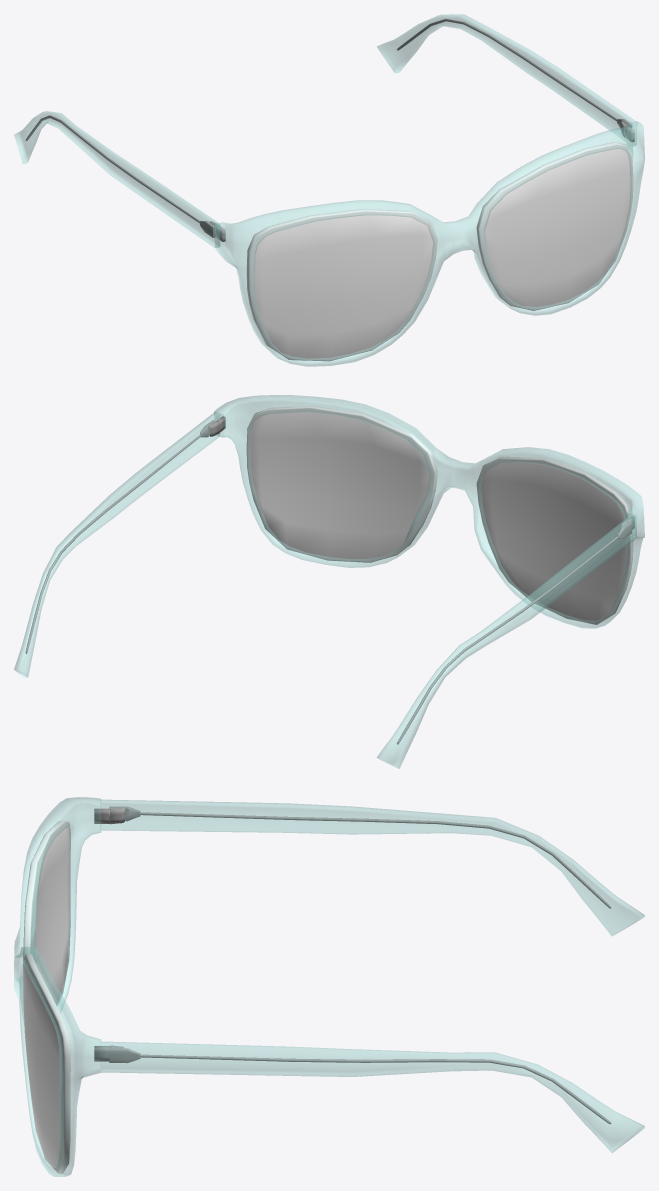
Rendered from yesil-gozluk.glb.
The picture shows the model from 3 angles, top to bottom: view 1: azimuth 30°, elevation 25°; view 2: azimuth 150°, elevation 25°; view 3: azimuth 270°, elevation 25°; orthographic projection. The views are drawn at different scales.
Parts seen in each view (by area): view 1: Lens.002, Frame.002, Vert.002, Vert.003, Cube.020, Cube.017; view 2: Lens.002, Frame.002, Vert.003, Vert.002, Cube.017, Cube.020; view 3: Vert.002, Vert.003, Lens.002, Frame.002, Cube.020, Cube.017.
Boxes of the visible parts, x1,y1,x2,y2 form: Lens.002: [246, 142, 633, 361]; Frame.002: [214, 121, 644, 366]; Vert.002: [377, 14, 636, 146]; Vert.003: [14, 111, 219, 247]; Cube.020: [397, 18, 631, 129]; Cube.017: [25, 115, 215, 237]; Lens.002: [246, 405, 633, 624]; Frame.002: [214, 395, 644, 628]; Vert.003: [377, 513, 636, 768]; Vert.002: [14, 412, 219, 677]; Cube.017: [397, 522, 631, 744]; Cube.020: [25, 420, 215, 653]; Vert.002: [101, 1041, 644, 1152]; Vert.003: [101, 800, 644, 936]; Lens.002: [23, 821, 70, 1173]; Frame.002: [14, 797, 100, 1176]; Cube.020: [109, 1048, 611, 1124]; Cube.017: [109, 806, 611, 908].
Size of the model in its own units: 0.151 by 0.0546 by 0.1636.
